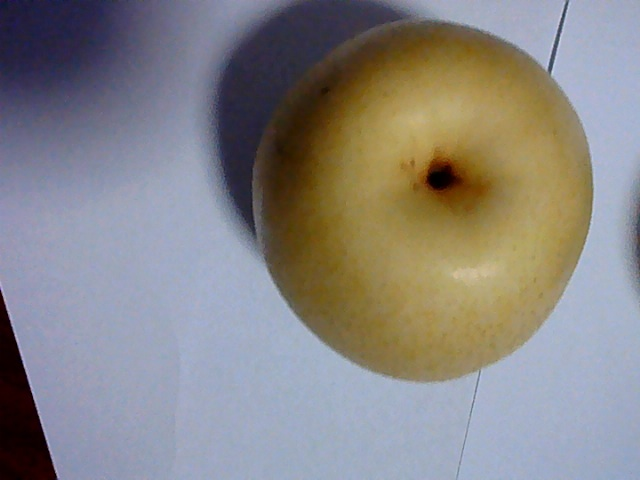pear: (250, 21, 597, 375)
